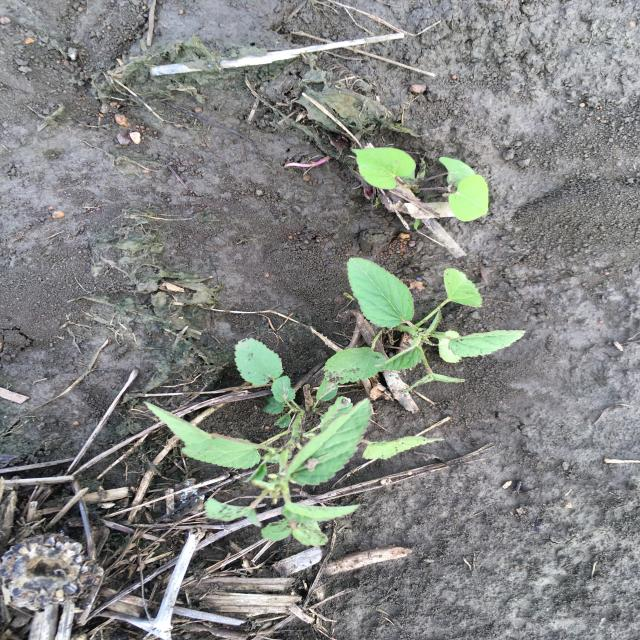MorningGlory: (350, 146, 494, 222)
PricklySida: (140, 338, 448, 550), (322, 257, 528, 393)
